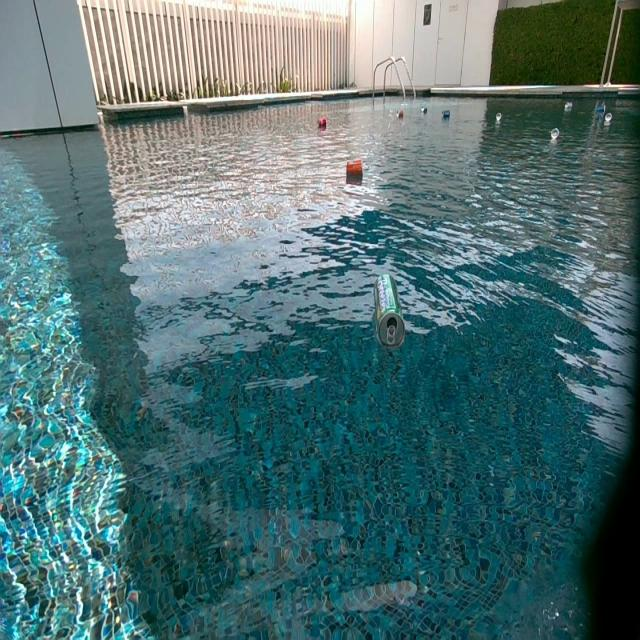Cans: (375, 273, 404, 351), (347, 161, 363, 178), (596, 103, 607, 115), (551, 128, 560, 142), (318, 116, 327, 128), (443, 109, 452, 120), (564, 101, 573, 112), (603, 112, 612, 123), (395, 109, 403, 120), (421, 106, 429, 115), (495, 112, 502, 121)
